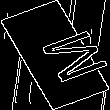M_SW: (14, 24, 96, 86)
